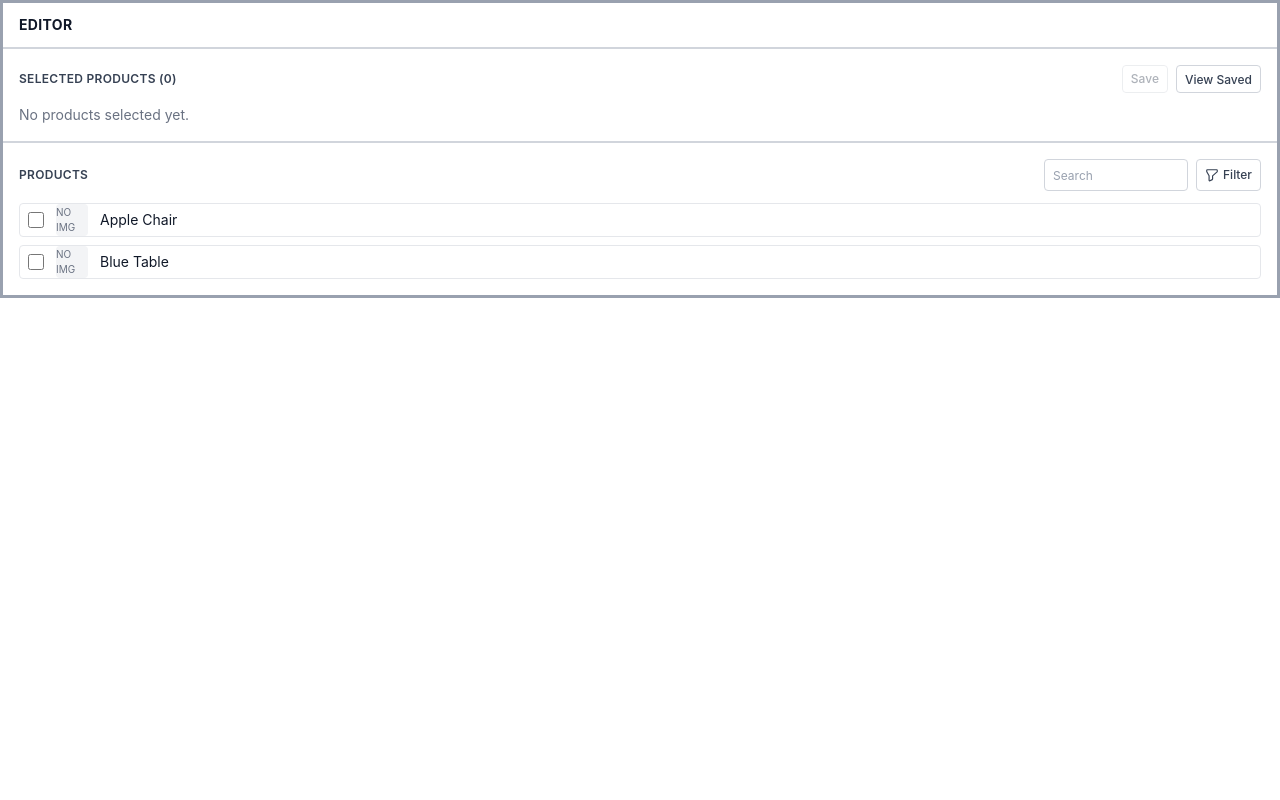
Test: Admin page flows › editor pane: select product and open save modal
Expected: the text "Apple Chair" is shown, [100, 210, 177, 230]
Step 1. Click the text "Blue Table" → coordinates (134, 262), box [100, 252, 169, 272]
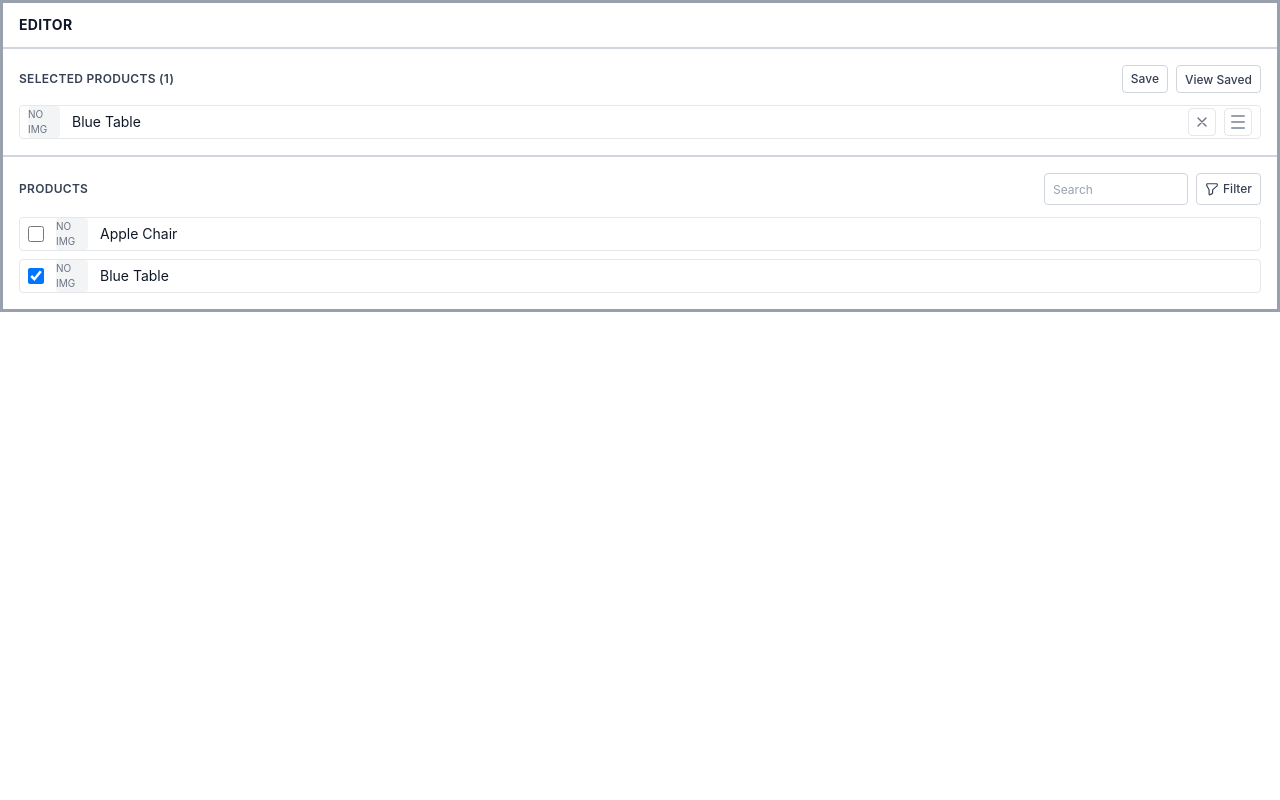
Now the text "Selected Products (1)" is shown, box [19, 71, 174, 87]
Step 2. Click the button "Save" → coordinates (1145, 79), box [1122, 65, 1168, 93]
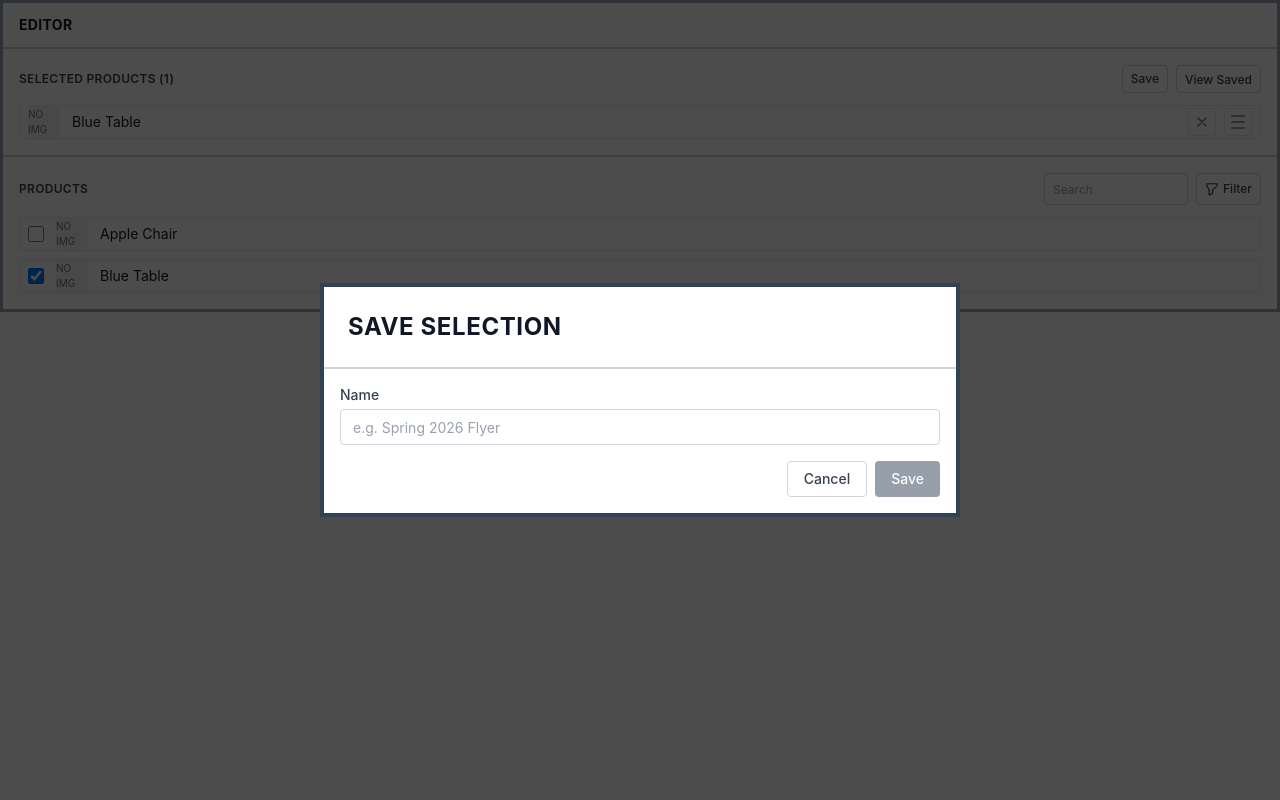
Now the field labelled "Name" is shown, box [340, 409, 940, 445]
Now the button "Save" is disabled, box [875, 461, 940, 497]
